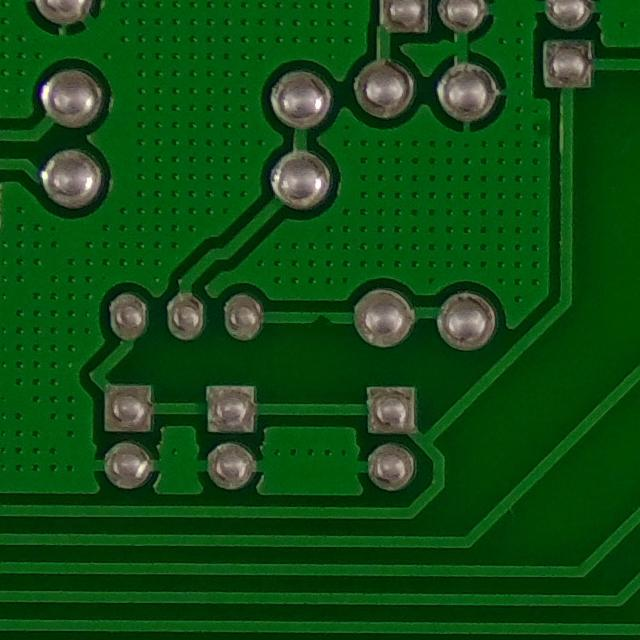mouse_bite: (302, 304, 339, 337)
